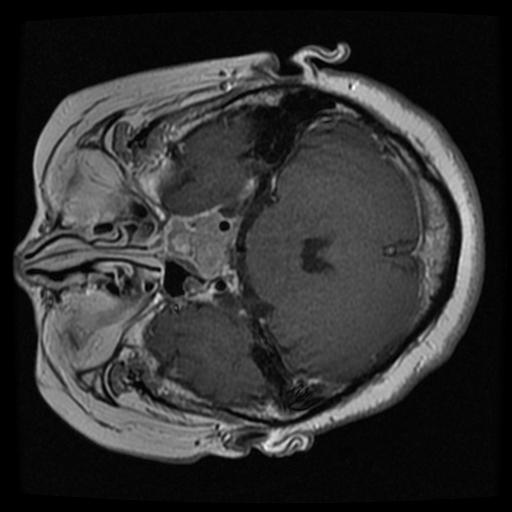pituitary tumour: (164, 208, 238, 277)
